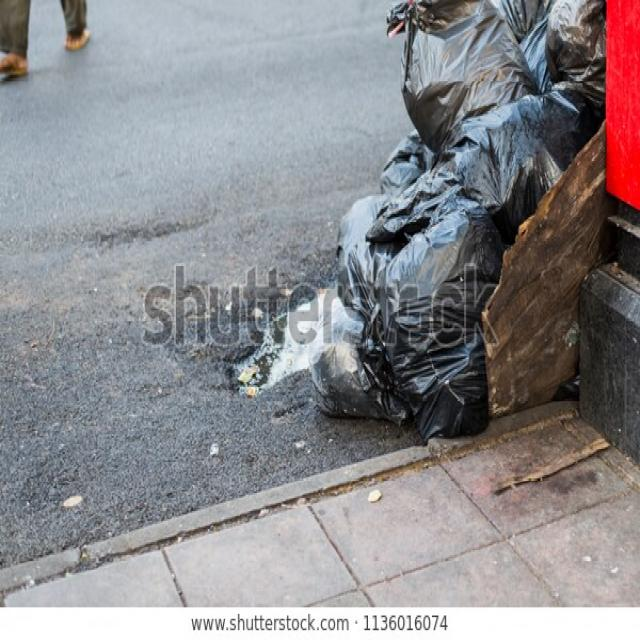plastic_bag: (382, 212, 492, 408), (400, 13, 529, 121), (467, 94, 587, 208), (312, 334, 408, 419)
